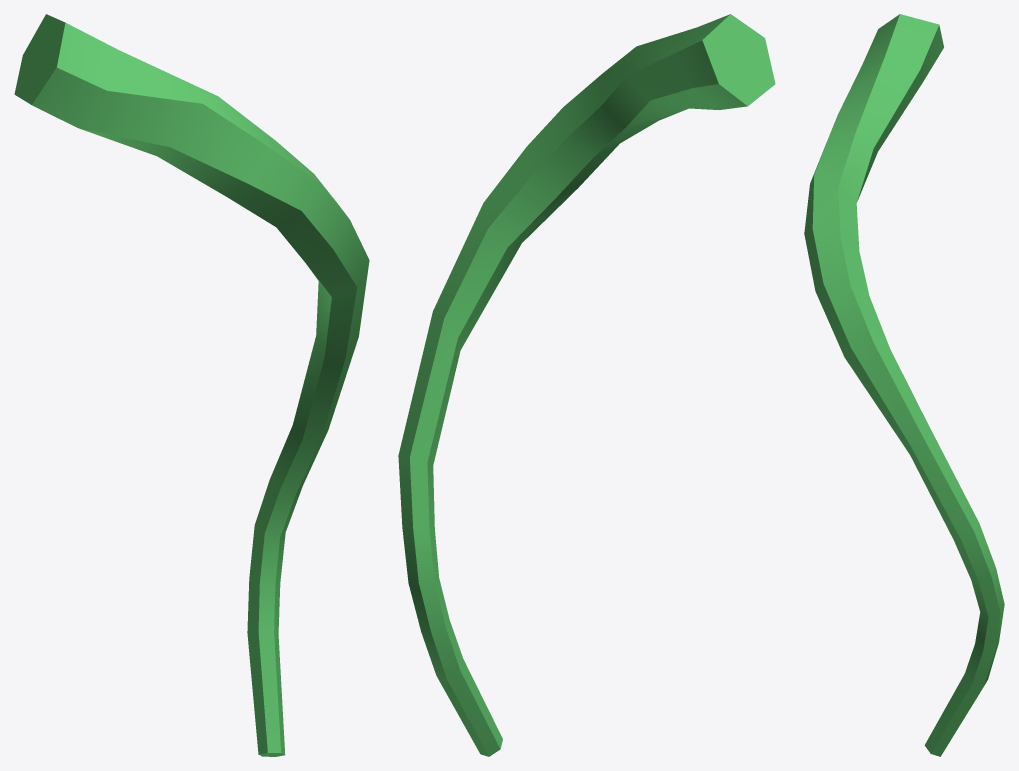
File: roots_solo_A_K.fbx
3 views of the same model, side by side, from view 1: azimuth 30°, elevation 25°; view 2: azimuth 150°, elevation 25°; view 3: azimuth 270°, elevation 25° (orthographic). The views are drawn at different scales.
Parts seen in each view (by area): view 1: roots_solo_A_K; view 2: roots_solo_A_K; view 3: roots_solo_A_K.
Part boxes in pixels (bbox=[...]): roots_solo_A_K: bbox=[14, 14, 369, 756]; roots_solo_A_K: bbox=[398, 14, 775, 756]; roots_solo_A_K: bbox=[804, 14, 1004, 756].
Bounding box in the file's own units: 52.37 × 119 × 33.14.
